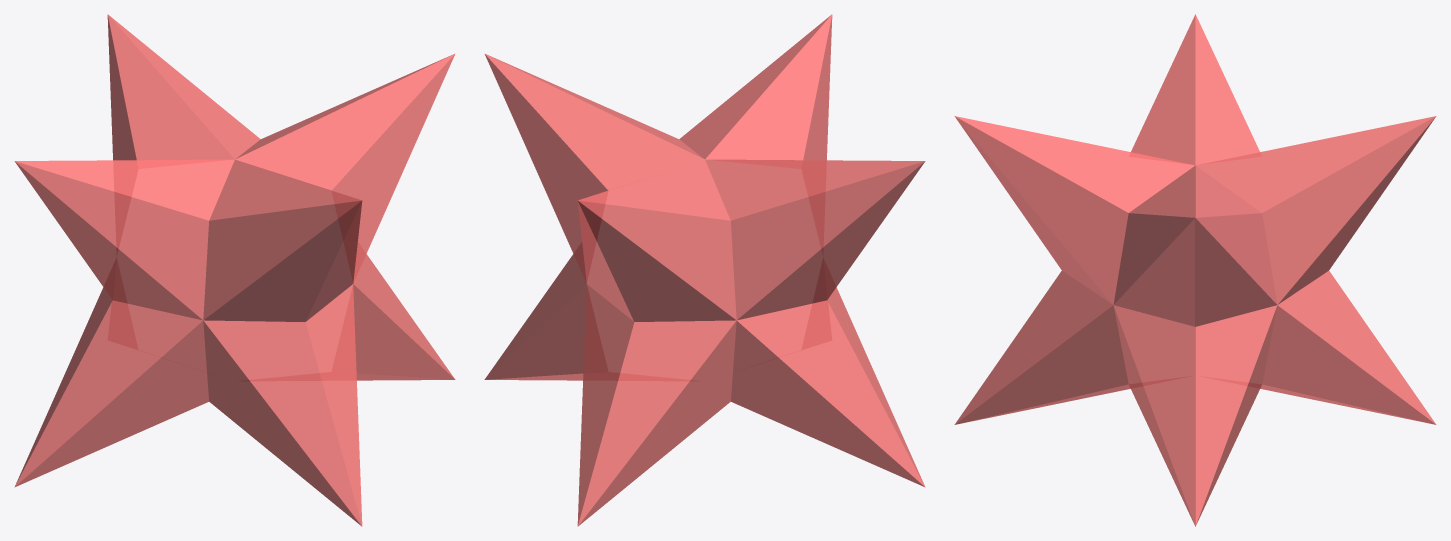
File: fractalgreatdisdyakisdodecahedron0.glb
The picture shows the model from 3 angles, left to right: view 1: azimuth 30°, elevation 25°; view 2: azimuth 150°, elevation 25°; view 3: azimuth 270°, elevation 25°; orthographic projection. The views are drawn at different scales.
Bounding box in the file's own units: 10.38 × 7.34 × 10.38.
